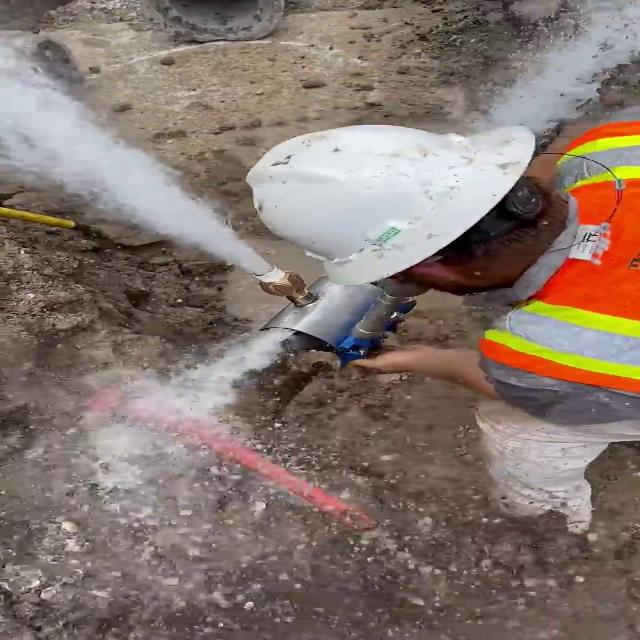leak: (0, 329, 423, 640), (0, 24, 275, 281), (481, 0, 640, 136)
